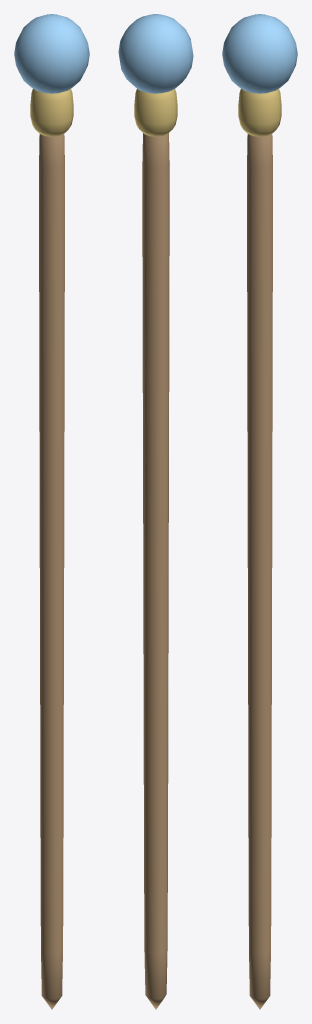
File: staff.glb
3 views of the same model, side by side, from view 1: azimuth 90°, elevation 25°; view 2: azimuth 150°, elevation 25°; view 3: azimuth 270°, elevation 25° (orthographic).
Parts seen in each view (by area): view 1: staff; view 2: staff; view 3: staff.
Part boxes in pixels (box(x1,y1,x2,y2)): staff: box(14, 14, 89, 1009); staff: box(118, 14, 193, 1009); staff: box(222, 14, 297, 1009).
Size of the model in its own units: 0.13 by 1.88 by 0.13.
